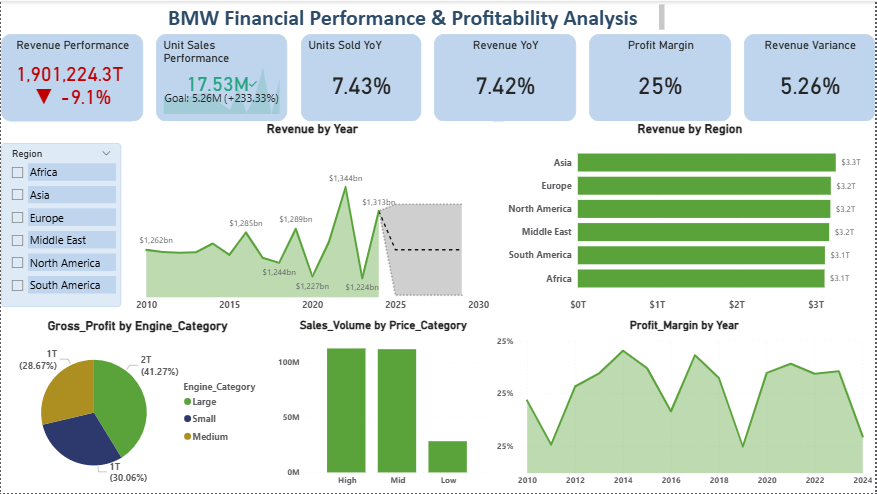

What the dashboard file says about the page in this screenshot:
{"tool":"powerbi","page":{"name":"Dashboard","canvas":[1280,720],"ordinal":0},"visuals":[{"type":"card","title":"Revenue Performance","fields":{"Values":["BMW_CAR_SALES_CLASSIFICATION.KPI Display"]},"box":[0,48,208,128],"z":0,"group":"g1"},{"type":"kpi","title":"Unit Sales Performance","fields":{"Indicator":["BMW_CAR_SALES_CLASSIFICATION.Total_Units_Sold"],"Goal":["BMW_CAR_SALES_CLASSIFICATION.Target_units_Sold"],"TrendLine":["BMW_CAR_SALES_CLASSIFICATION.Year"]},"box":[227.2,48,192,128],"z":1000,"group":"g1"},{"type":"card","title":"Units Sold YoY","fields":{"Values":["BMW_CAR_SALES_CLASSIFICATION.Units Sold YoY %"]},"box":[438.4,48,176,128],"z":2000,"group":"g1"},{"type":"card","title":"Revenue YoY","fields":{"Values":["BMW_CAR_SALES_CLASSIFICATION.Revenue YoY %"]},"box":[633.6,48,208,128],"z":3000,"group":"g1"},{"type":"card","title":"Profit Margin","fields":{"Values":["BMW_CAR_SALES_CLASSIFICATION.Profit_Margin%"]},"box":[860.8,48,208,128],"z":4000,"group":"g1"},{"type":"clusteredColumnChart","title":"Sales_Volume by Price_Category","fields":{"Y":["Sum(BMW_CAR_SALES_CLASSIFICATION.Sales_Volume)"],"Category":["BMW_CAR_SALES_CLASSIFICATION.Price_Category"]},"box":[400,464,320,256],"z":5000,"group":"g2"},{"type":"pieChart","fields":{"Category":["BMW_CAR_SALES_CLASSIFICATION.Engine_Category"],"Y":["BMW_CAR_SALES_CLASSIFICATION.Gross_Profit"]},"box":[0,464,400,256],"z":6000,"group":"g2"},{"type":"areaChart","title":"Profit_Margin by Year","fields":{"Y":["BMW_CAR_SALES_CLASSIFICATION.Profit_Margin%"],"Category":["Date_Table.Year"]},"box":[720,464,560,256],"z":7000,"group":"g2"},{"type":"slicer","fields":{"Values":["BMW_CAR_SALES_CLASSIFICATION.Region"]},"box":[0,208,176,240],"z":8000},{"type":"card","title":"Revenue Variance","fields":{"Values":["BMW_CAR_SALES_CLASSIFICATION.Variance%"]},"box":[1088,48,192,128],"z":9000,"group":"g1"},{"type":"lineChart","title":"Revenue by Year","fields":{"Category":["BMW_CAR_SALES_CLASSIFICATION.Year"],"Y":["BMW_CAR_SALES_CLASSIFICATION.Total_Revenue"]},"box":[192,176,528,288],"z":10000,"group":"g2"},{"type":"clusteredBarChart","title":"Revenue by Region","fields":{"Category":["Region_Table.Region"],"Y":["BMW_CAR_SALES_CLASSIFICATION.Total_Revenue"]},"box":[736,176,544,288],"z":11000,"group":"g2"},{"type":"textbox","box":[240,0,736,48],"z":12000},{"type":"group","id":"g1","title":"Group 1","box":[0,48,1280,128],"z":12001},{"type":"group","id":"g2","title":"Group 2","box":[0,176,1280,544],"z":12002}]}

Visuals, with their boxes in screenshot pixels (x1, y1, x2, y2), scaled from the page's 1280x720 canvas onto the 877x494 screenshot:
"Revenue Performance" card: rect(0, 33, 143, 121)
"Unit Sales Performance" kpi: rect(156, 33, 287, 121)
"Units Sold YoY" card: rect(300, 33, 421, 121)
"Revenue YoY" card: rect(434, 33, 577, 121)
"Profit Margin" card: rect(590, 33, 732, 121)
"Sales_Volume by Price_Category" clusteredColumnChart: rect(274, 318, 493, 493)
pieChart - BMW_CAR_SALES_CLASSIFICATION.Engine_Category x BMW_CAR_SALES_CLASSIFICATION.Gross_Profit: rect(0, 318, 274, 493)
"Profit_Margin by Year" areaChart: rect(493, 318, 876, 493)
slicer - BMW_CAR_SALES_CLASSIFICATION.Region: rect(0, 143, 121, 307)
"Revenue Variance" card: rect(745, 33, 876, 121)
"Revenue by Year" lineChart: rect(132, 121, 493, 318)
"Revenue by Region" clusteredBarChart: rect(504, 121, 876, 318)
textbox: rect(164, 0, 669, 33)
"Group 1" group: rect(0, 33, 876, 121)
"Group 2" group: rect(0, 121, 876, 493)
